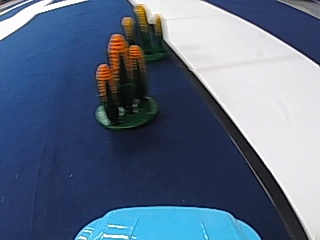corn: (91, 27, 154, 132), (117, 2, 168, 62)
